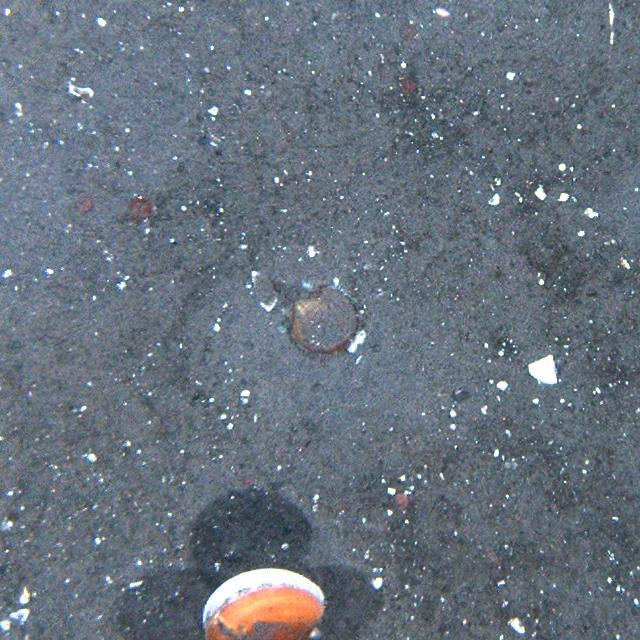scallop: (194, 568, 330, 640), (286, 290, 363, 348)
